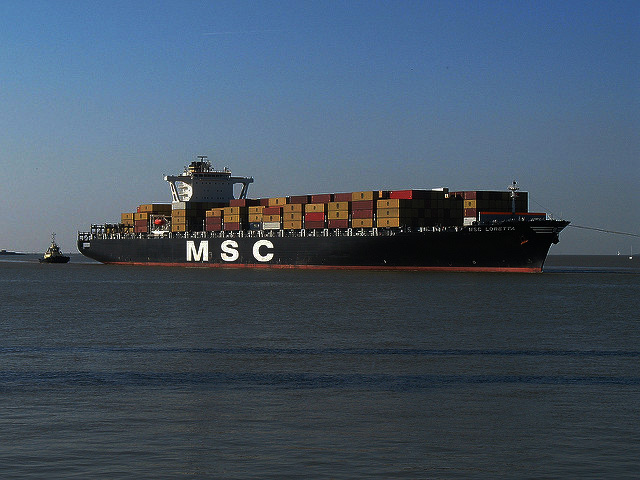container_ship: (78, 153, 569, 271)
tug_boat: (38, 230, 66, 264)
